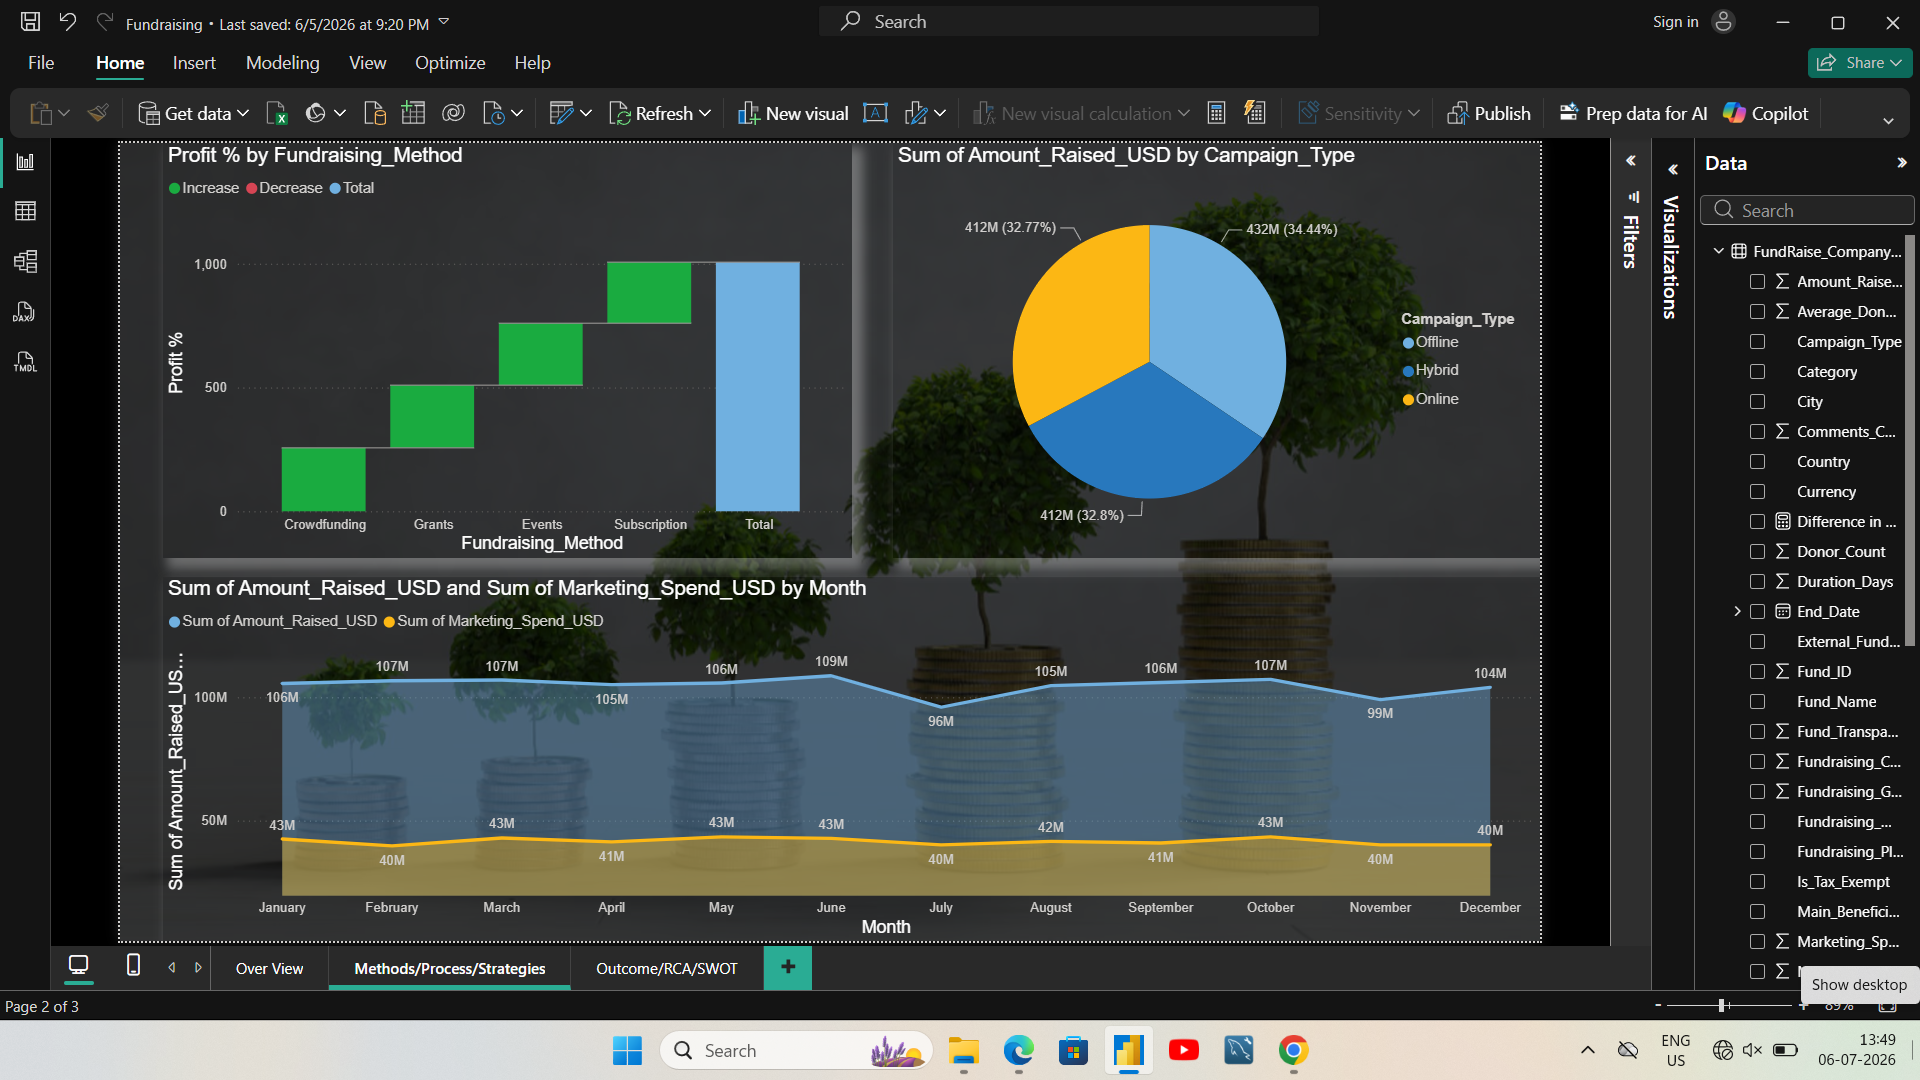

This screenshot's page, from the dashboard's own definition file:
{"tool":"powerbi","page":{"name":"Methods/Process/Strategies","canvas":[1280,720],"ordinal":1},"visuals":[{"type":"waterfallChart","fields":{"Category":["FundRaise_CompanyDataset.Fundraising_Method"],"Y":["FundRaise_CompanyDataset.Profit %"]},"box":[38.4,0,621.6,374.6],"z":0},{"type":"areaChart","fields":{"Category":["FundRaise_CompanyDataset.Start_Date.Variation.Date Hierarchy.Month"],"Y":["Sum(FundRaise_CompanyDataset.Amount_Raised_USD)","Sum(FundRaise_CompanyDataset.Marketing_Spend_USD)"]},"box":[38.4,391.1,1199.3,329.3],"z":2000},{"type":"pieChart","fields":{"Category":["FundRaise_CompanyDataset.Campaign_Type"],"Y":["Sum(FundRaise_CompanyDataset.Amount_Raised_USD)"]},"box":[697.1,0,540.7,374.6],"z":3000}]}

Visuals, with their boxes on the page's 1280x720 design canvas (x1, y1, x2, y2). These are canvas units, not pixel positions in the 1920x1080 screenshot, which may show the page scaled, cropped or inside an application window:
waterfallChart - FundRaise_CompanyDataset.Fundraising_Method x FundRaise_CompanyDataset.Profit %: (left=38, top=0, right=660, bottom=375)
areaChart - FundRaise_CompanyDataset.Start_Date.Variation.Date Hierarchy.Month x Sum(FundRaise_CompanyDataset.Amount_Raised_USD): (left=38, top=391, right=1238, bottom=720)
pieChart - FundRaise_CompanyDataset.Campaign_Type x Sum(FundRaise_CompanyDataset.Amount_Raised_USD): (left=697, top=0, right=1238, bottom=375)
